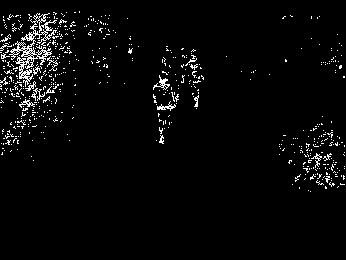person: (154, 71, 175, 144), (182, 47, 204, 110)
